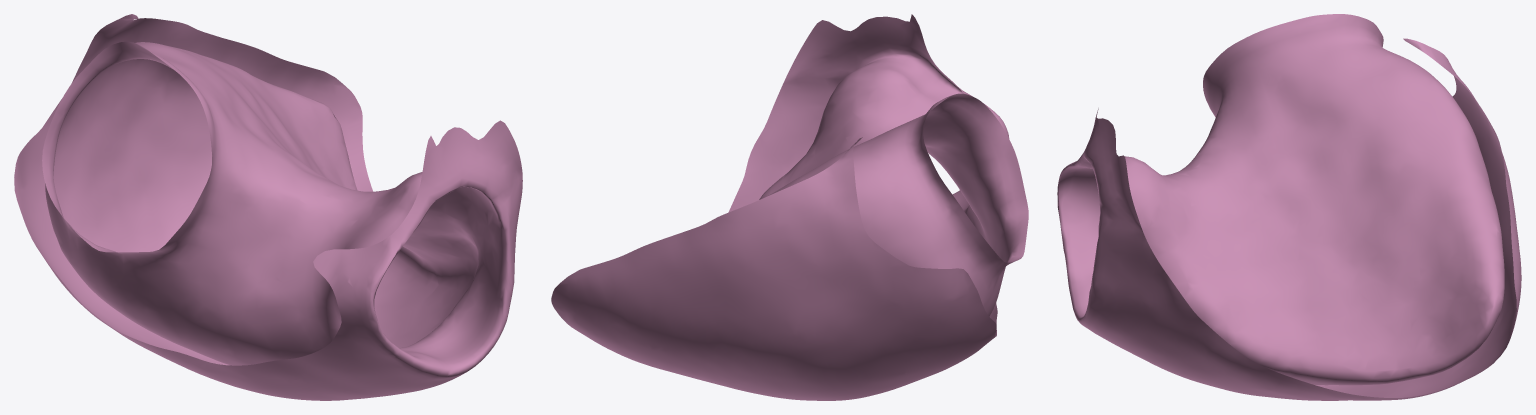
The picture shows the model from 3 angles, left to right: view 1: azimuth 30°, elevation 25°; view 2: azimuth 150°, elevation 25°; view 3: azimuth 270°, elevation 25°; orthographic projection. The views are drawn at different scales.
Parts seen in each view (by area): view 1: 右心室; view 2: 右心室; view 3: 右心室.
Part boxes in pixels (bbox=[...]): 右心室: bbox=[14, 14, 522, 400]; 右心室: bbox=[551, 14, 1028, 400]; 右心室: bbox=[1057, 14, 1521, 400].
Bounding box in the file's own units: 0.1216 × 0.0987 × 0.1362.
